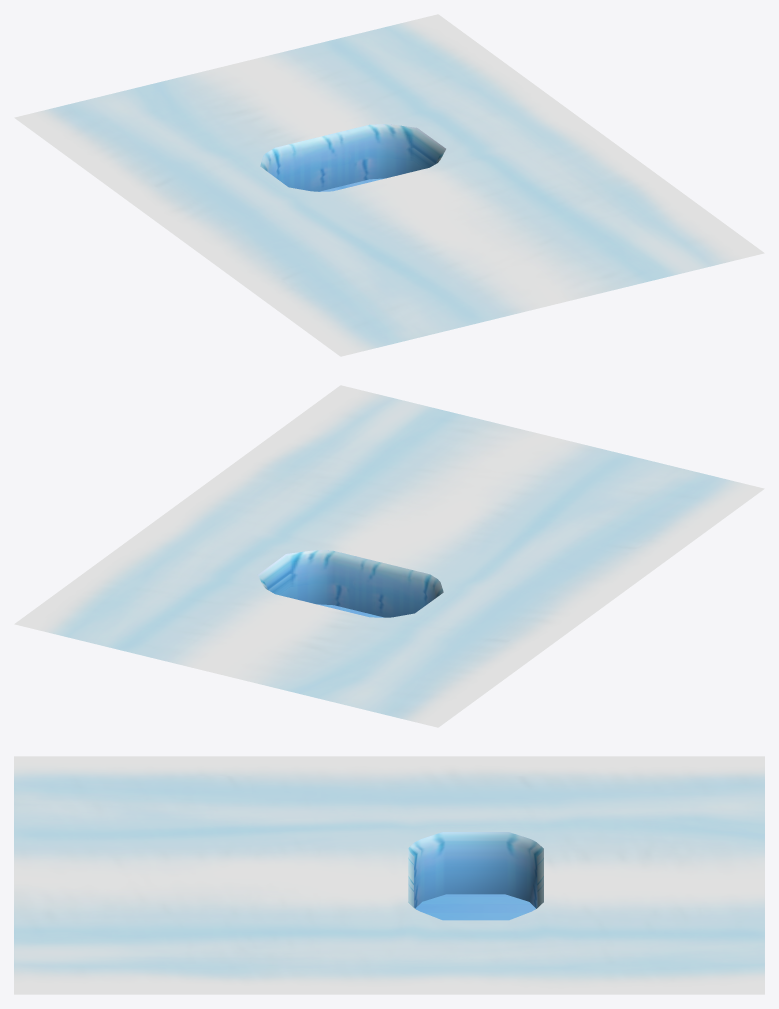
The model's file is Hole_M_Size_04.FBX.
The picture shows the model from 3 angles, top to bottom: view 1: azimuth 30°, elevation 25°; view 2: azimuth 150°, elevation 25°; view 3: azimuth 270°, elevation 25°; orthographic projection. The views are drawn at different scales.
Parts seen in each view (by area): view 1: modelRoad073; view 2: modelRoad073; view 3: modelRoad073.
Boxes of the visible parts, x1,y1,x2,y2 form: modelRoad073: [14, 14, 764, 356]; modelRoad073: [14, 385, 764, 727]; modelRoad073: [14, 756, 764, 994].
Size of the model in its own units: 600 by 70 by 800.
